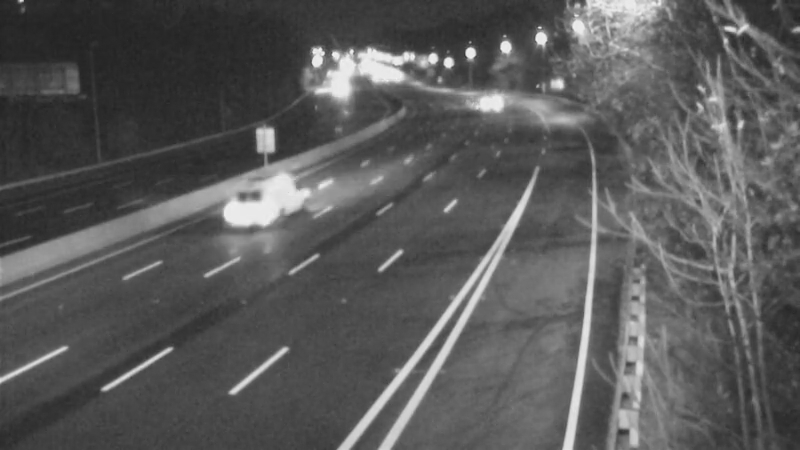vehicle: (205, 166, 285, 246), (455, 72, 505, 122)
